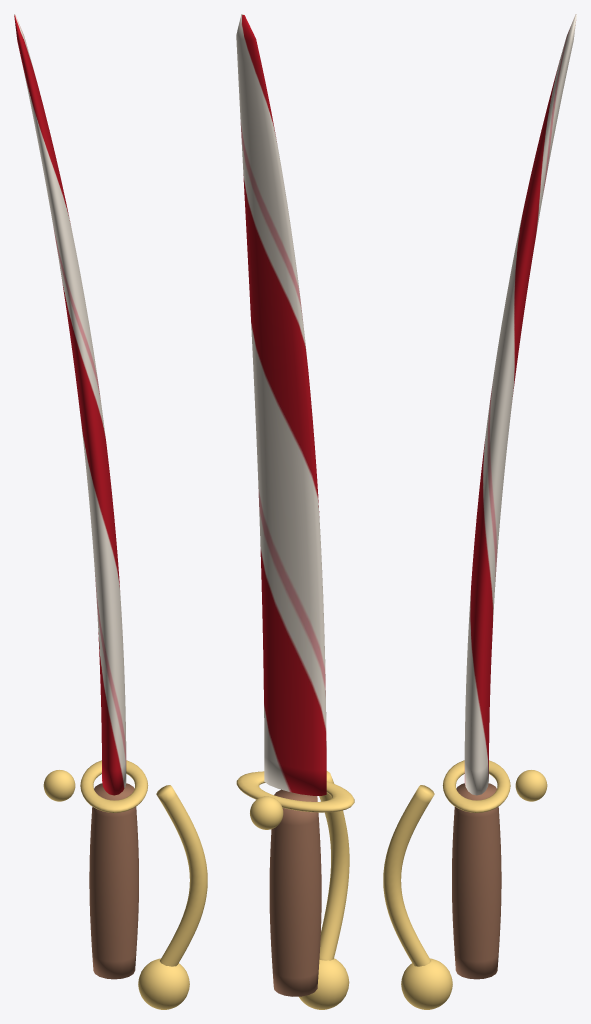
Rendered from snap_sabre.glb.
3 renders of one model, left to right at view 1: azimuth 90°, elevation 25°; view 2: azimuth 150°, elevation 25°; view 3: azimuth 270°, elevation 25°, orthographic. The views are drawn at different scales.
Visible parts, largest first — view 1: snap_sabre; view 2: snap_sabre; view 3: snap_sabre.
Part boxes in pixels (box(x1,y1,x2,y2)): snap_sabre: box(14, 14, 207, 1009); snap_sabre: box(236, 14, 354, 1009); snap_sabre: box(383, 14, 576, 1009).
Size of the model in its own units: 0.124 by 1.1 by 0.1946.
3 materials, 1 textured.
